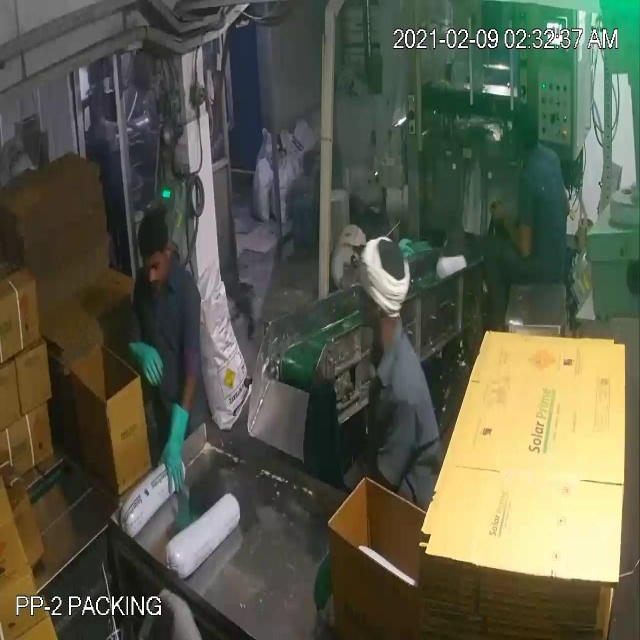Guantes: (153, 407, 199, 513), (120, 323, 174, 397)
Sin_guantes: (482, 193, 541, 279)
